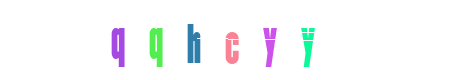C: (186, 0, 266, 80)
H: (153, 0, 233, 80)
Q: (117, 0, 197, 80), (142, 0, 222, 80)
Y: (191, 0, 271, 80), (267, 0, 347, 80)
